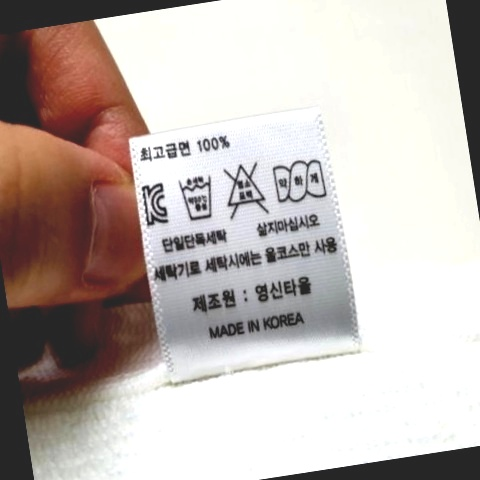hand_wash: (176, 172, 224, 226)
non_chlorine_bleach: (219, 155, 273, 223)
wring: (269, 157, 329, 207)
